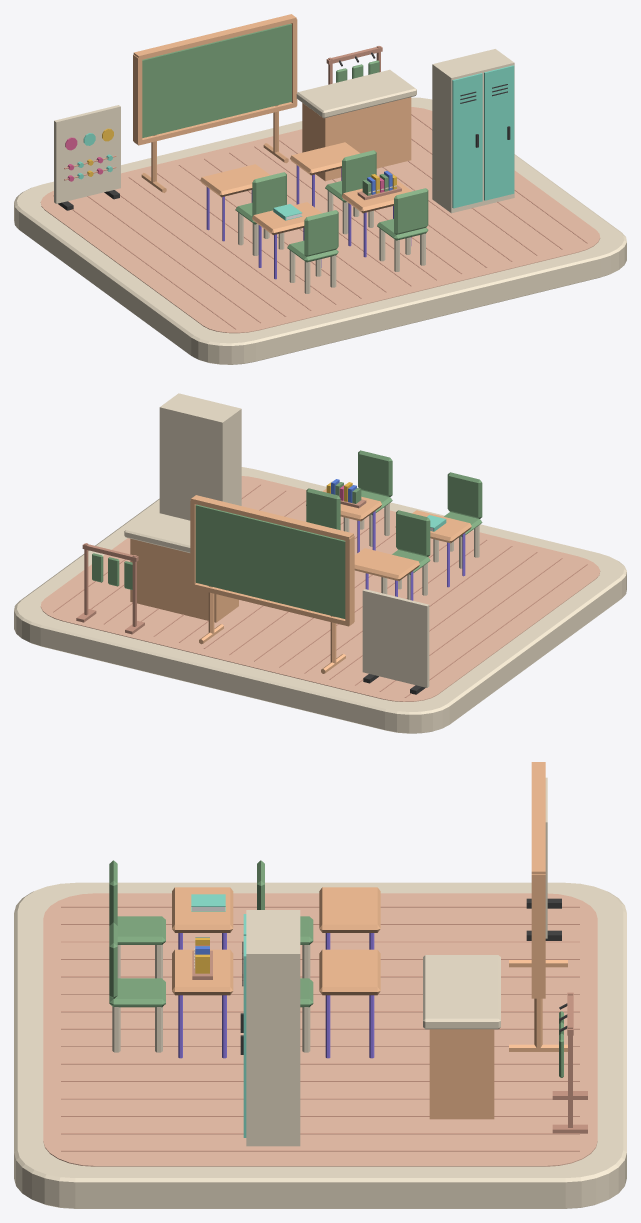
3 renders of one model, top to bottom at view 1: azimuth 30°, elevation 25°; view 2: azimuth 150°, elevation 25°; view 3: azimuth 270°, elevation 25°, orthographic. The views are drawn at different scales.
Visible parts, largest first — view 1: COM-02 Floor Surface, COM-01 Rounded Base Direct, Board, Desk body, Panel, Case, Door.001, Door, Desk top, Rail.001, Backrest, Backrest.001 (+9 smaller); view 2: COM-02 Floor Surface, COM-01 Rounded Base Direct, Board, Case, Panel, Desk body, Desk top, Rail.001, Backrest, Rounded table top.002, Backrest.001, Backrest.002 (+6 smaller); view 3: COM-02 Floor Surface, COM-01 Rounded Base Direct, Case, Desk body, Desk top, Rounded table top.003, Rounded table top.002, Rounded table top, Rounded table top.001, Frame.001, Rail.001, Seat.001 (+11 smaller).
Part boxes in pixels (left/top/right/bottom): COM-02 Floor Surface: left=40, top=107, right=600, bottom=333; COM-01 Rounded Base Direct: left=14, top=97, right=626, bottom=364; Board: left=142, top=23, right=291, bottom=137; Desk body: left=302, top=97, right=411, bottom=181; Panel: left=54, top=105, right=120, bottom=203; Case: left=432, top=49, right=514, bottom=213; Door.001: left=484, top=65, right=514, bottom=200; Door: left=452, top=73, right=482, bottom=208; Desk top: left=296, top=69, right=416, bottom=118; Rail.001: left=133, top=14, right=296, bottom=60; Backrest: left=304, top=210, right=338, bottom=256; Backrest.001: left=394, top=188, right=428, bottom=234; COM-02 Floor Surface: left=40, top=476, right=600, bottom=701; COM-01 Rounded Base Direct: left=14, top=467, right=626, bottom=733; Board: left=195, top=504, right=345, bottom=618; Case: left=159, top=393, right=241, bottom=520; Panel: left=362, top=589, right=429, bottom=687; Desk body: left=130, top=538, right=238, bottom=622; Desk top: left=124, top=511, right=190, bottom=552; Rail.001: left=191, top=495, right=353, bottom=540; Backrest: left=447, top=472, right=482, bottom=518; Rounded table top.002: left=354, top=548, right=419, bottom=580; Backrest.001: left=358, top=450, right=392, bottom=496; Backrest.002: left=396, top=510, right=430, bottom=556; COM-02 Floor Surface: left=43, top=893, right=597, bottom=1166; COM-01 Rounded Base Direct: left=14, top=882, right=626, bottom=1208; Case: left=246, top=910, right=300, bottom=1146; Desk body: left=429, top=1029, right=494, bottom=1119; Desk top: left=423, top=955, right=500, bottom=1029; Rounded table top.003: left=319, top=949, right=380, bottom=995; Rounded table top.002: left=319, top=887, right=380, bottom=932; Rounded table top: left=172, top=887, right=233, bottom=932; Rounded table top.001: left=172, top=949, right=233, bottom=995; Frame.001: left=531, top=874, right=545, bottom=997; Rail.001: left=531, top=762, right=545, bottom=874; Seat.001: left=109, top=978, right=165, bottom=1007.
Size of the model in its own units: 6 by 2.1 by 5.2.
Materials: 1 (1 with a texture image).
